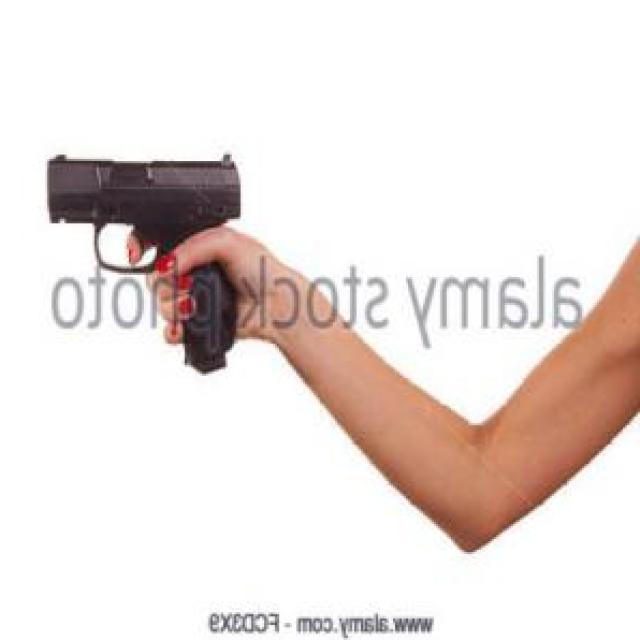pistol: (48, 148, 247, 376)
